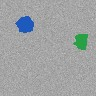climbing-hold: (16, 17, 34, 32), (73, 35, 88, 50)
